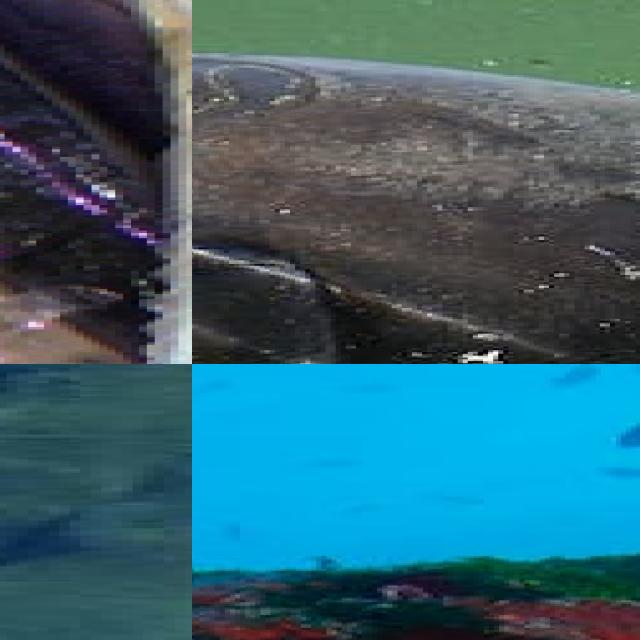fish: (192, 0, 640, 364), (192, 364, 640, 640), (0, 0, 192, 364)
